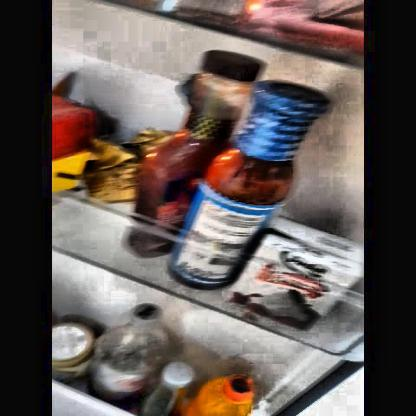heavy_cream: (246, 232, 335, 326)
